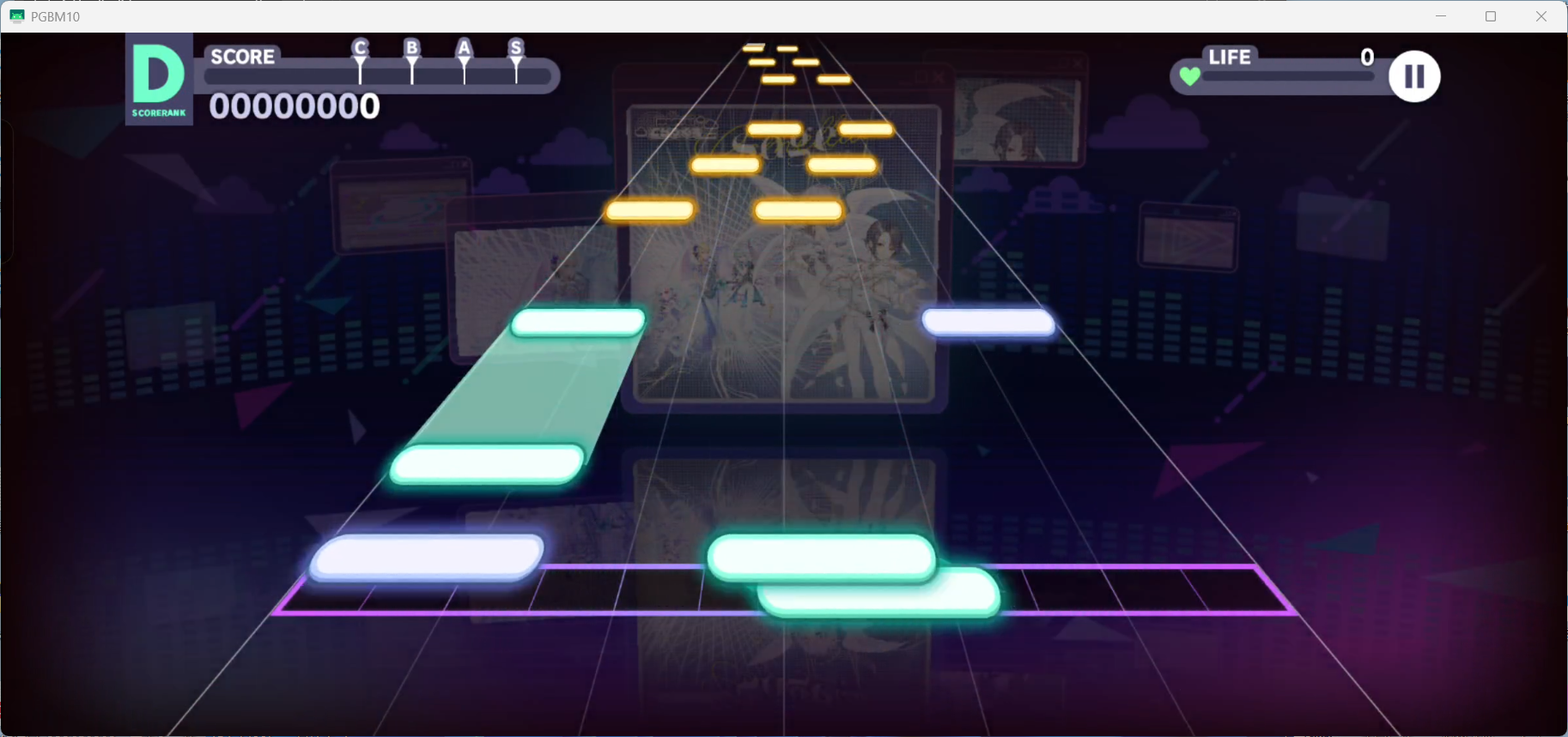hold: (409, 338, 641, 442)
tap: (755, 566, 1001, 619), (708, 534, 935, 583), (308, 535, 544, 581), (389, 444, 584, 484), (922, 309, 1057, 339), (512, 308, 644, 338), (606, 199, 693, 220), (756, 202, 842, 220), (808, 157, 875, 172), (691, 158, 759, 172), (839, 123, 891, 136), (748, 123, 800, 136), (792, 57, 818, 66), (817, 76, 850, 82), (762, 76, 794, 82), (748, 58, 775, 65), (776, 45, 798, 51), (742, 45, 763, 51)
